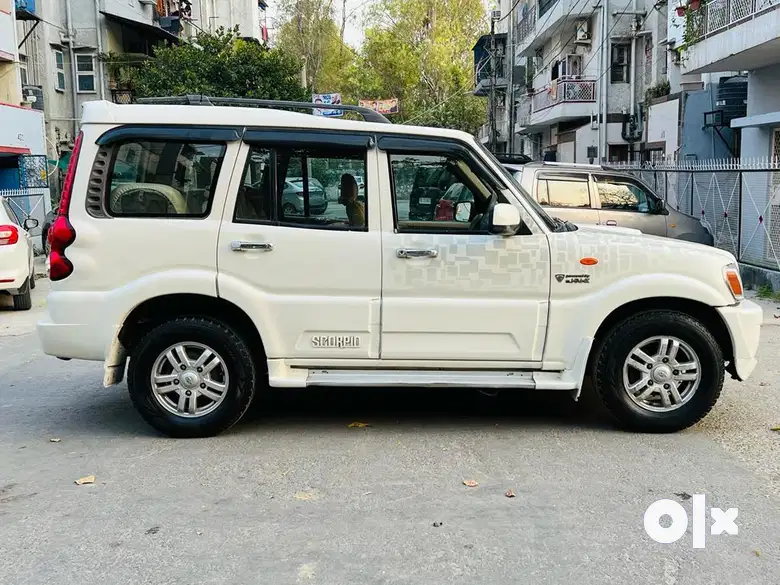car: (45, 107, 763, 458)
